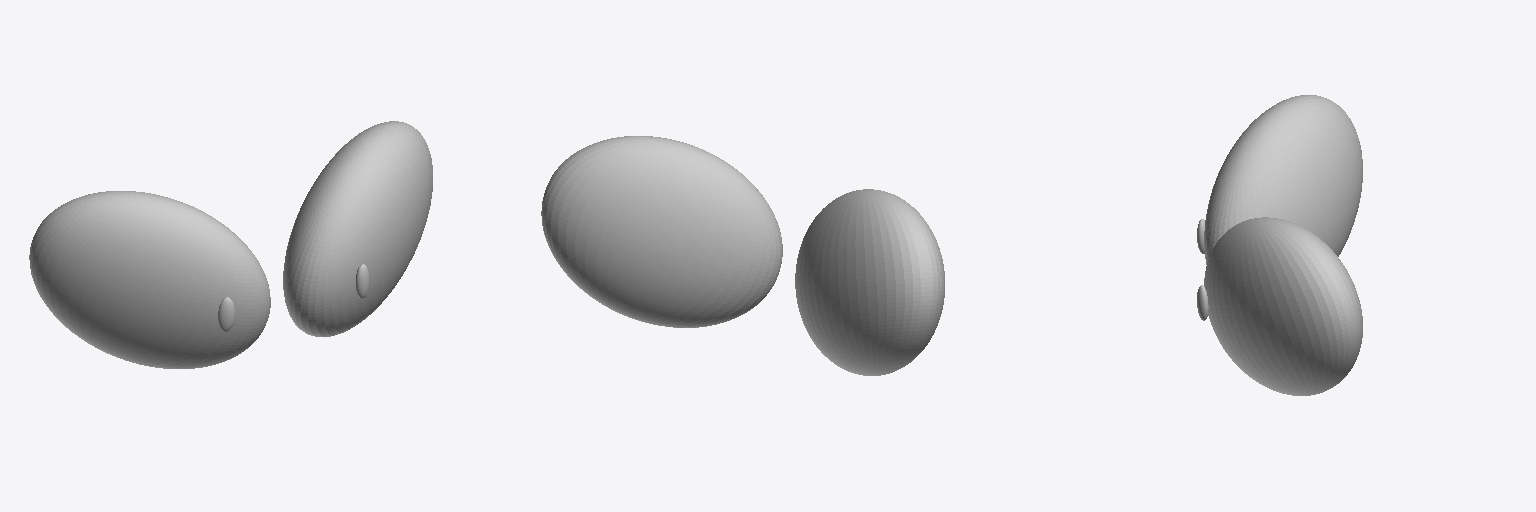
File: eyewhite.obj
3 views of the same model, side by side, from view 1: azimuth 30°, elevation 25°; view 2: azimuth 150°, elevation 25°; view 3: azimuth 270°, elevation 25° (orthographic).
Parts seen in each view (by area): view 1: head:MeshpolySurface40, head:MeshpolySurface39; view 2: head:MeshpolySurface39, head:MeshpolySurface40; view 3: head:MeshpolySurface39, head:MeshpolySurface40.
Part boxes in pixels (bbox=[...]): head:MeshpolySurface40: bbox=[29, 191, 270, 368]; head:MeshpolySurface39: bbox=[283, 121, 432, 336]; head:MeshpolySurface39: bbox=[541, 136, 782, 327]; head:MeshpolySurface40: bbox=[795, 189, 944, 375]; head:MeshpolySurface39: bbox=[1204, 217, 1362, 395]; head:MeshpolySurface40: bbox=[1204, 95, 1362, 264].
Bounding box in the file's own units: 0.3244 × 0.1417 × 0.119.